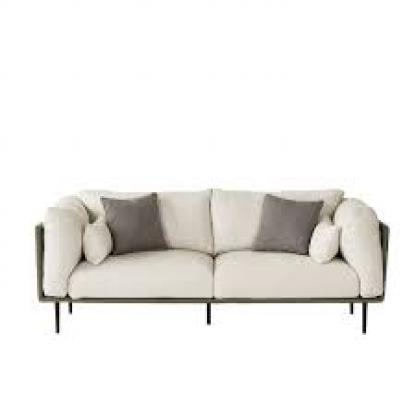sofa: (30, 183, 390, 342)
